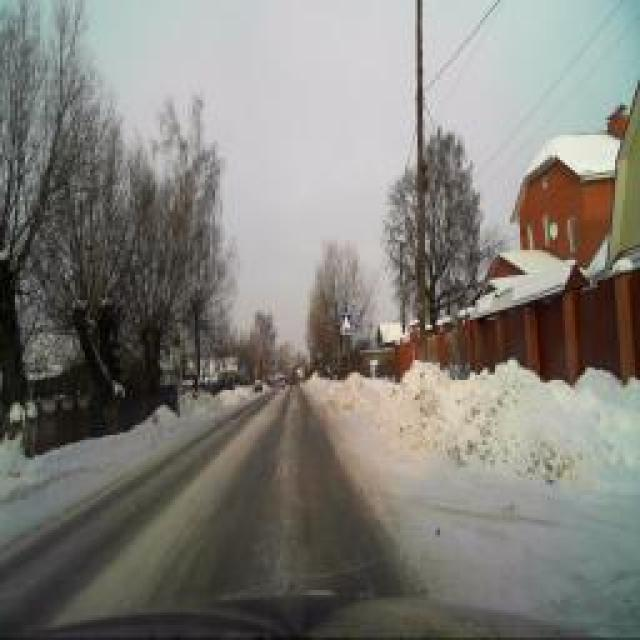sign: (340, 313, 352, 335)
